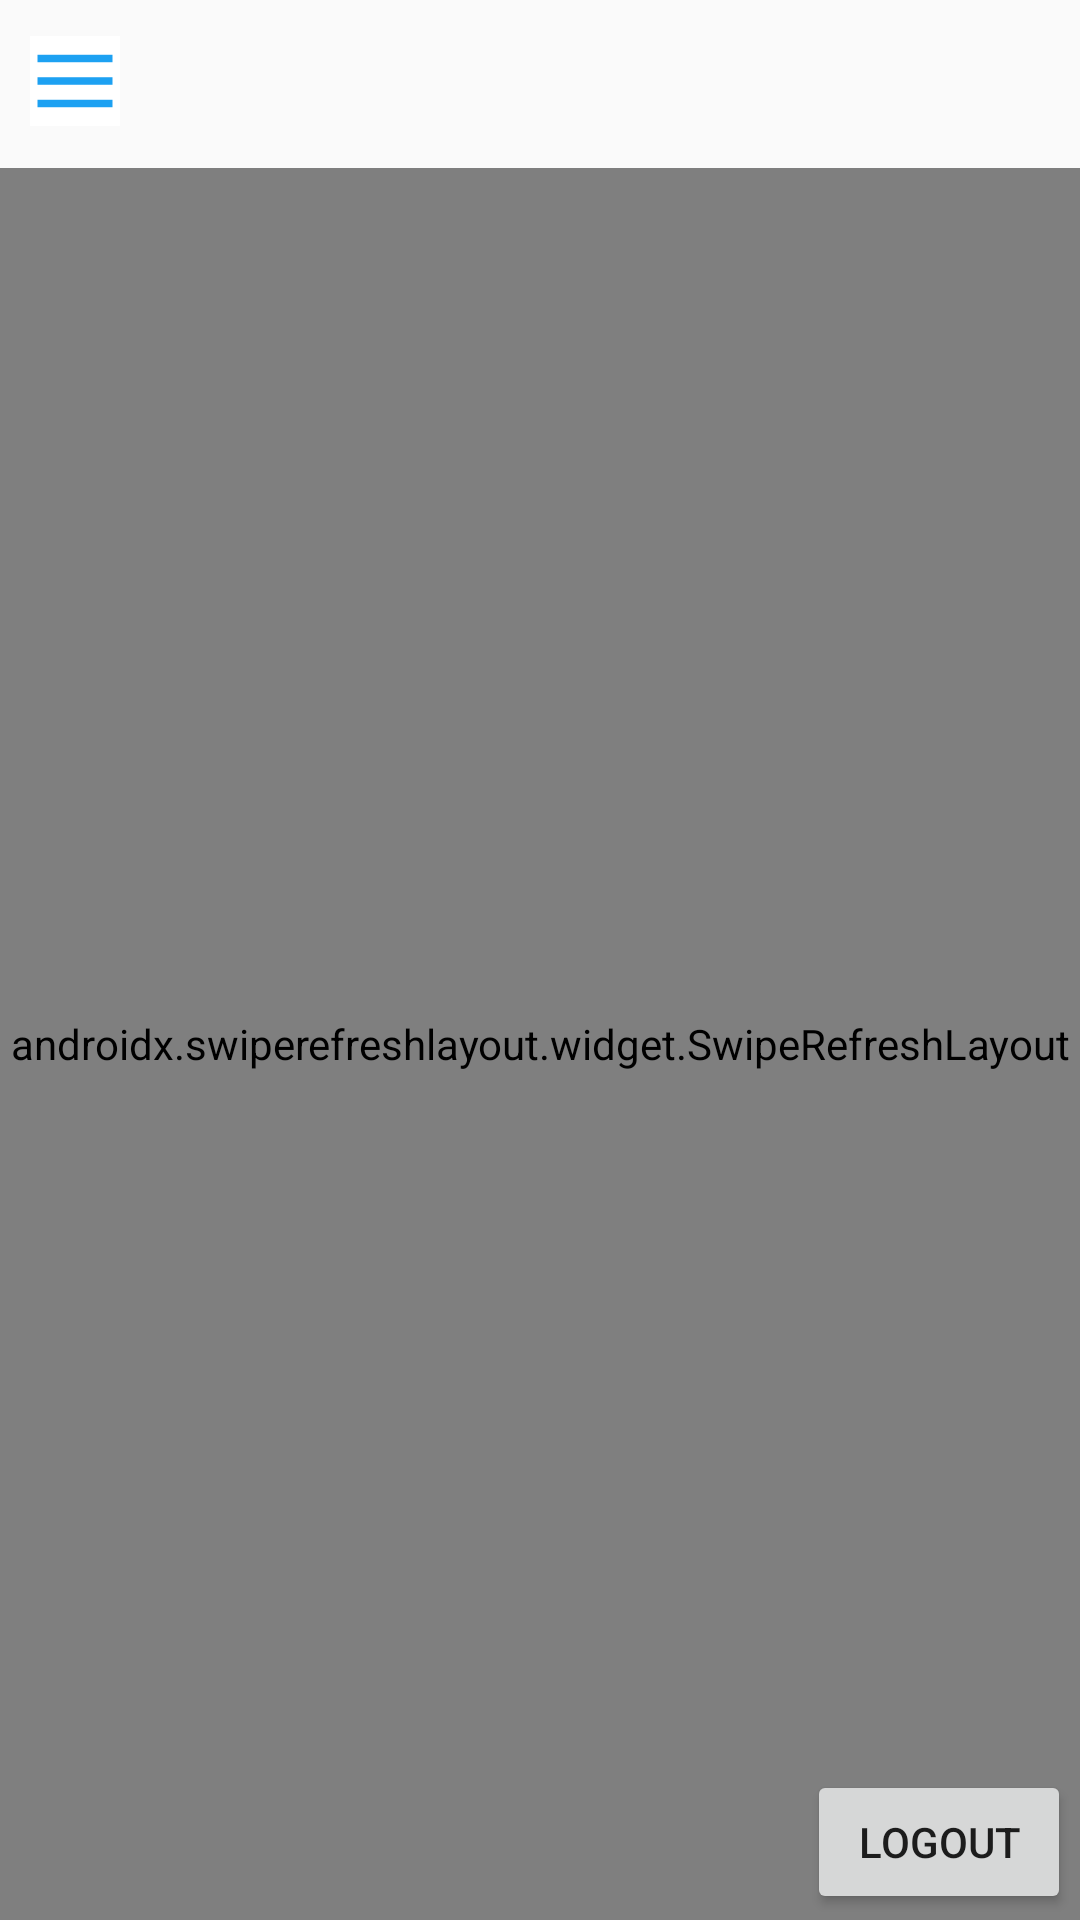

Where to tap for icons on this 1080w x 1920h app screen, as (x,y):
hamurger: (75,81)
